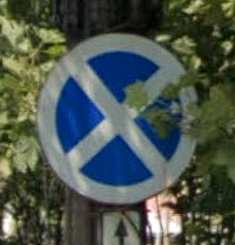oprirea_interzisa: (31, 29, 209, 213)
